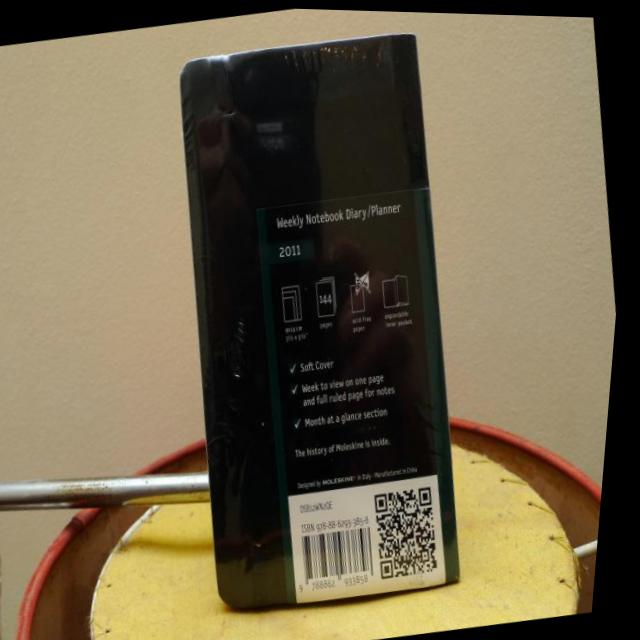qrcode: (378, 483, 454, 579)
